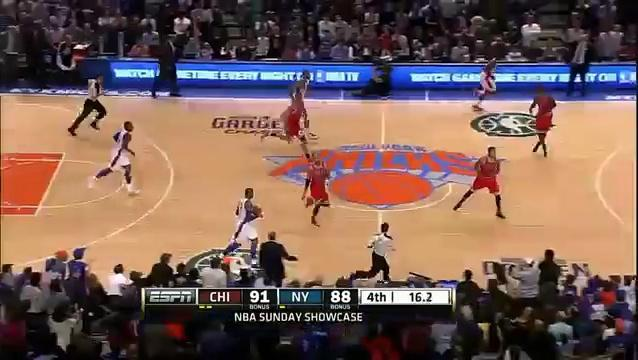Person: (451, 145, 511, 218), (86, 119, 139, 196), (259, 93, 312, 159), (301, 154, 335, 229), (229, 186, 266, 253), (528, 88, 563, 157), (287, 69, 319, 138), (475, 57, 501, 114)
Referee: (67, 74, 109, 136), (367, 220, 398, 283)
